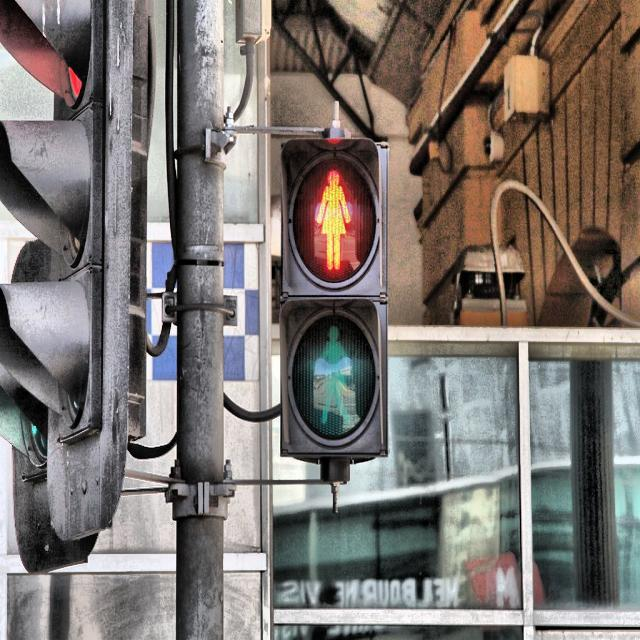red_light: (314, 166, 352, 276)
